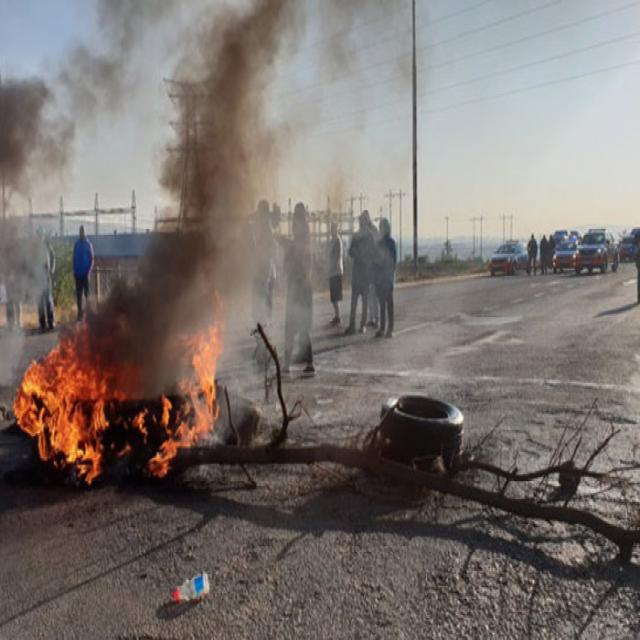fire: (30, 361, 106, 480)
